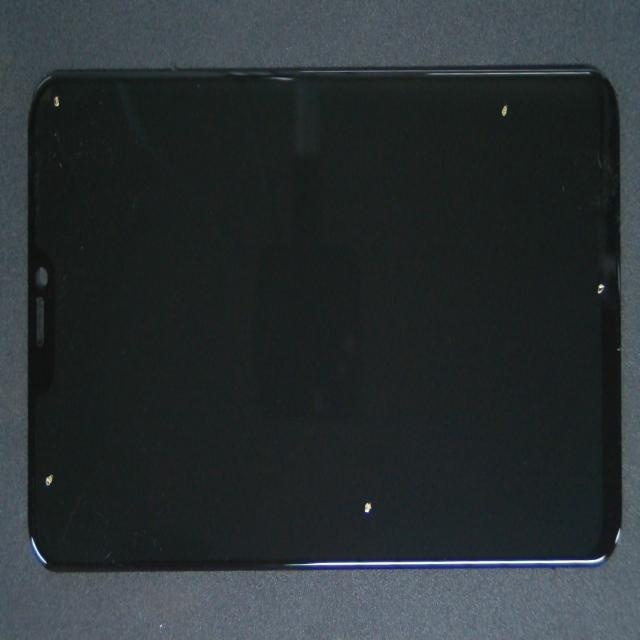stain: (153, 291, 549, 640), (304, 94, 640, 400), (278, 22, 640, 128), (32, 203, 66, 640), (0, 72, 89, 169)
